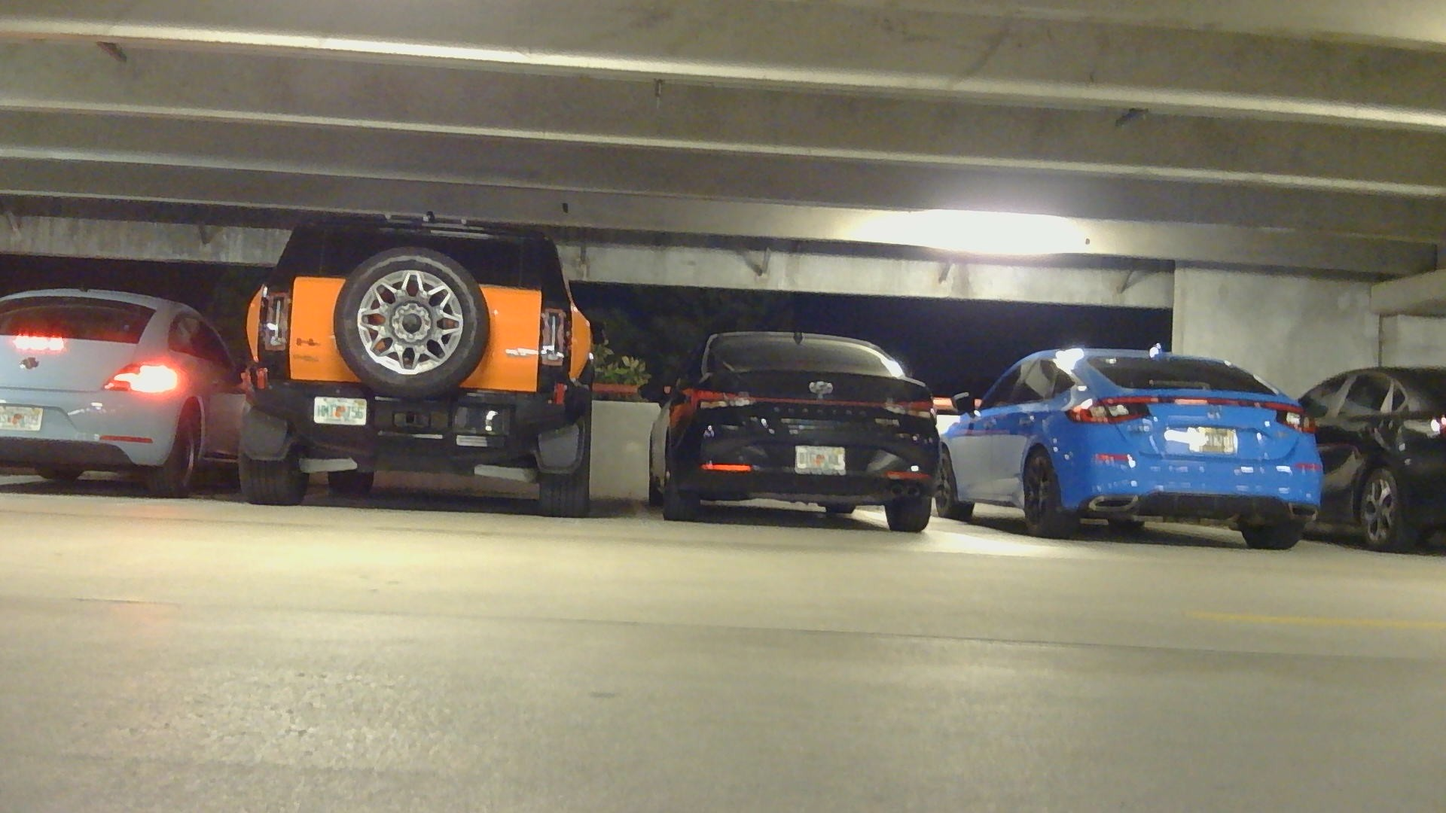occupied_spot: (228, 200, 612, 518), (929, 329, 1340, 557), (638, 307, 958, 545), (0, 287, 248, 501), (1290, 358, 1445, 551)
